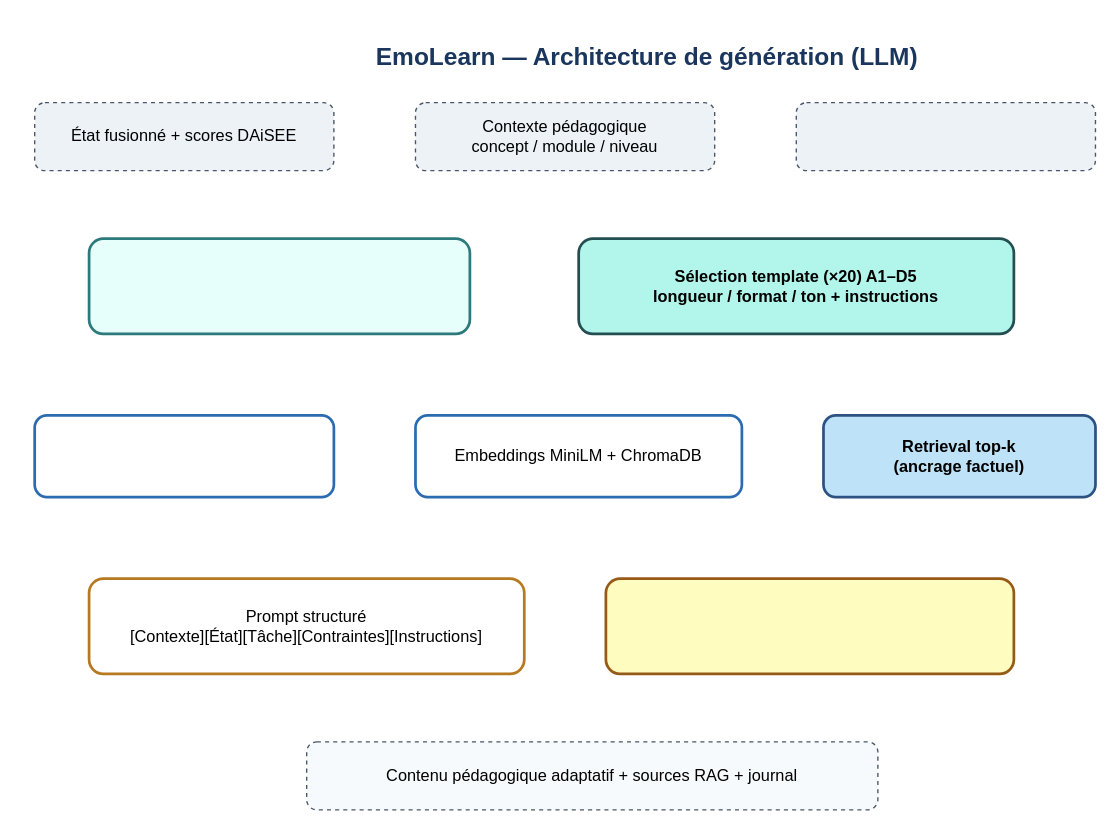
This 1119x834 diagram has some shape labels left out. Here are the shapes that lost their labels. From the top down, the box of each, then its label:
(795, 101, 1095, 171): Règles temporelles (déclenchement)
(87, 237, 471, 335): Moteur de décision État → type A/B/C/D + stratégie
(33, 413, 335, 498): Base documentaire pédagogique
(604, 577, 1015, 675): API Groq · GPT-OSS 20B system + user · GROQ_API_KEY
